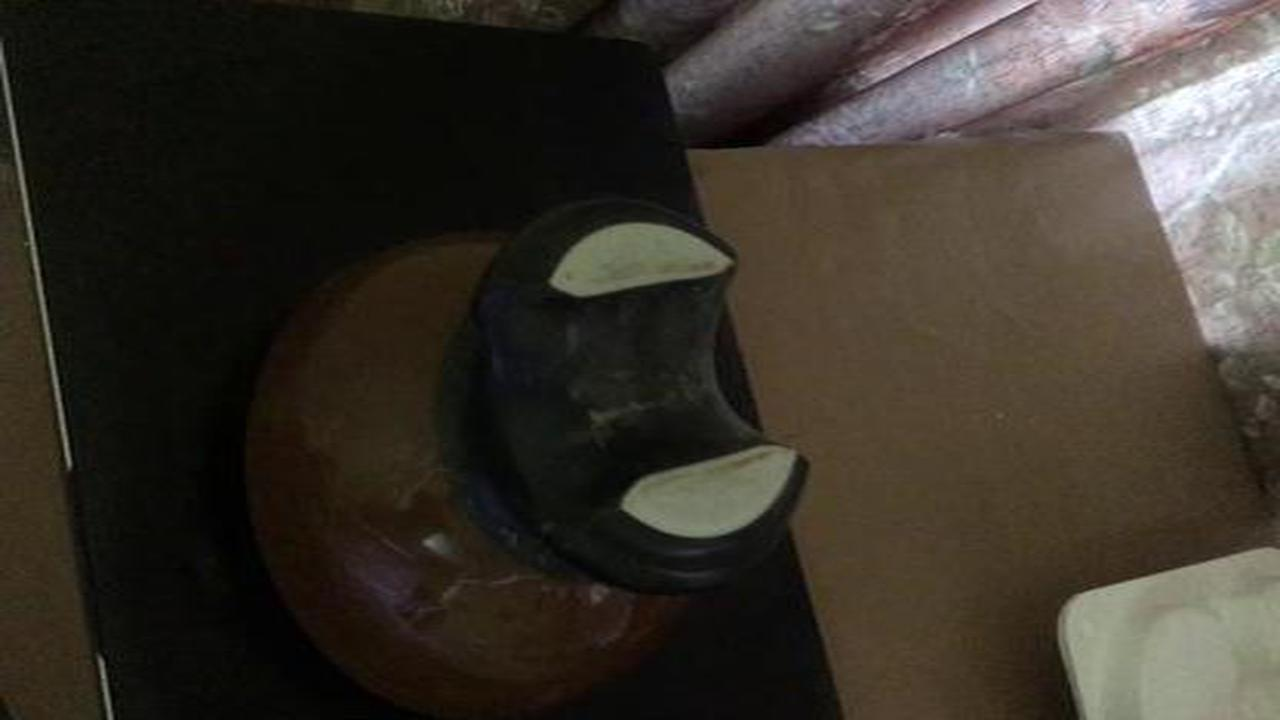insulator_pin: (225, 181, 828, 719)
